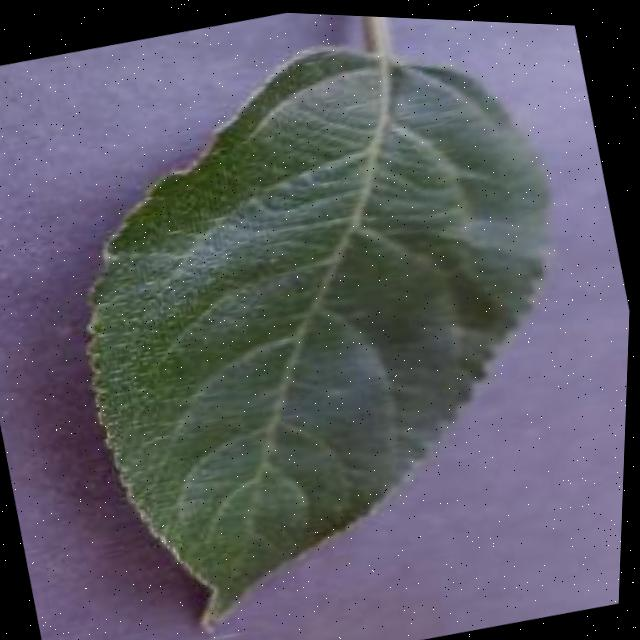healthy: (10, 2, 640, 640)
